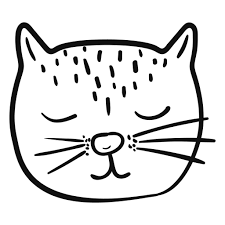cat: (5, 17, 217, 210)
